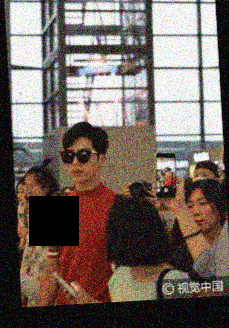without_mask: (65, 145, 99, 184), (186, 195, 219, 232), (23, 180, 43, 203), (15, 187, 27, 207)
